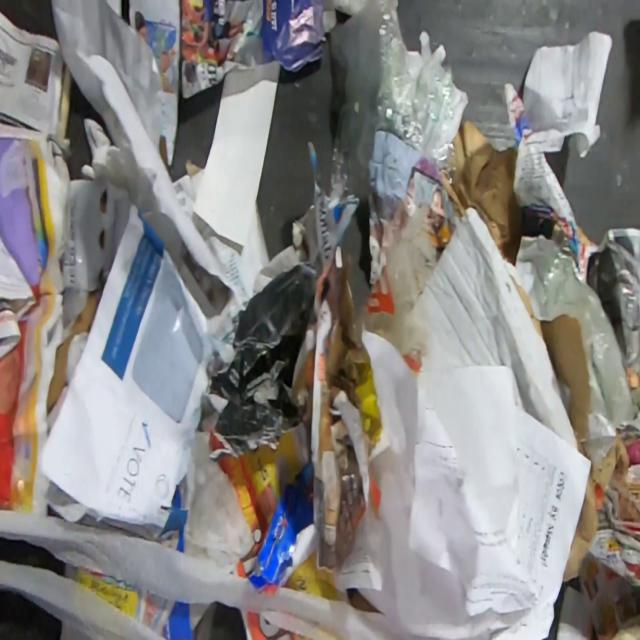cardboard: (511, 276, 592, 442), (442, 118, 526, 266), (562, 428, 638, 582), (62, 180, 130, 330)
soft_plastic: (504, 234, 635, 471), (329, 0, 462, 204)
